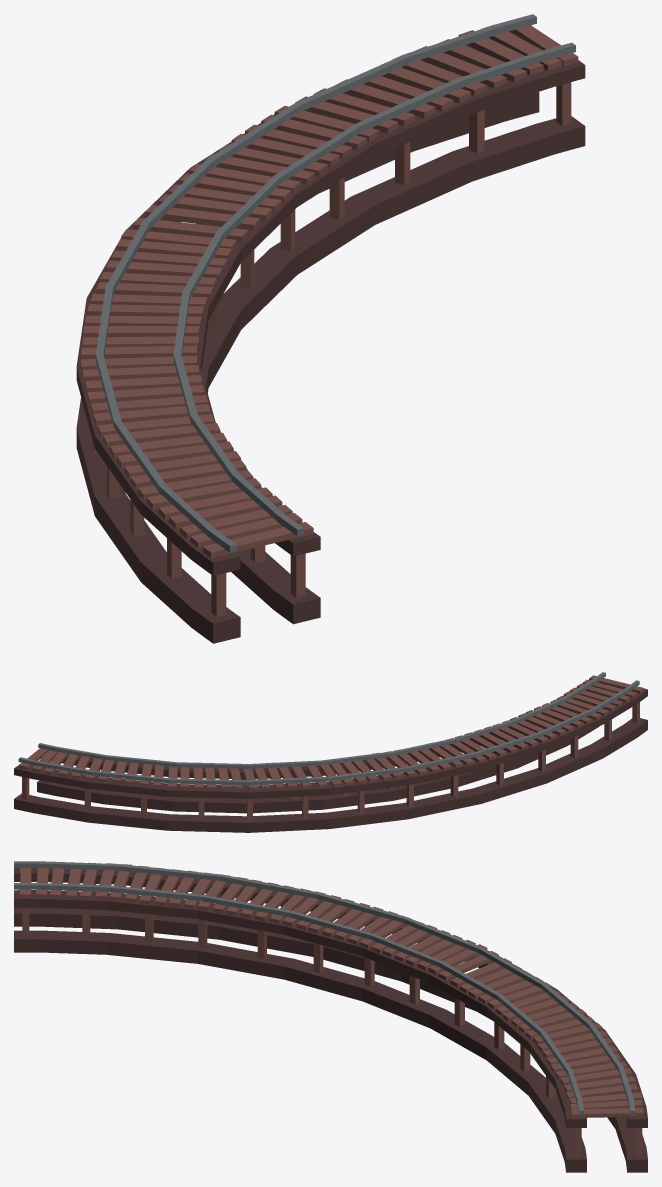
The model's file is DarkRoseWoodMechLarge1_5GaugeRightTurn1.fbx.
3 renders of one model, top to bottom at view 1: azimuth 30°, elevation 25°; view 2: azimuth 150°, elevation 25°; view 3: azimuth 270°, elevation 25°, orthographic. The views are drawn at different scales.
Parts seen in each view (by area): view 1: DarkRoseWoodMechLarge1_5GaugeRightTurn1; view 2: DarkRoseWoodMechLarge1_5GaugeRightTurn1; view 3: DarkRoseWoodMechLarge1_5GaugeRightTurn1.
Boxes of the visible parts, x1,y1,x2,y2 form: DarkRoseWoodMechLarge1_5GaugeRightTurn1: (76, 14, 585, 643); DarkRoseWoodMechLarge1_5GaugeRightTurn1: (14, 672, 647, 832); DarkRoseWoodMechLarge1_5GaugeRightTurn1: (14, 861, 647, 1172).
Bounding box in the file's own units: 1950 × 221 × 2050.
